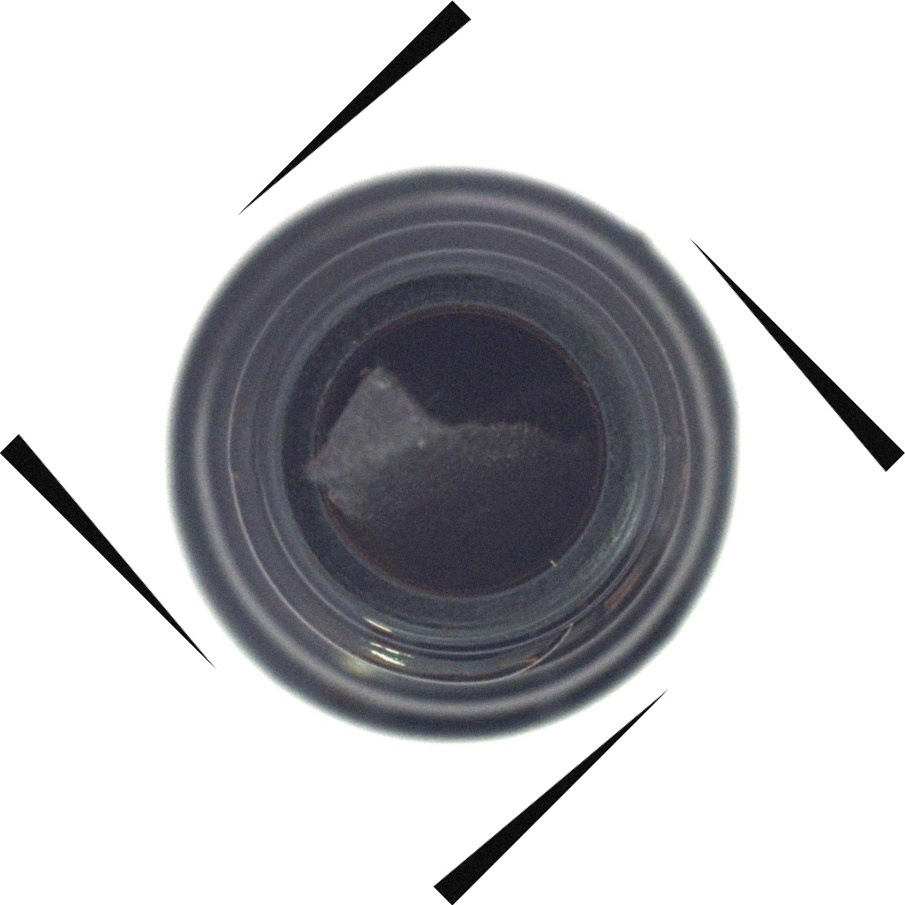bad-contamination: (41, 42, 865, 862)
